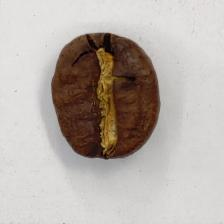NG: (73, 38, 138, 147)
